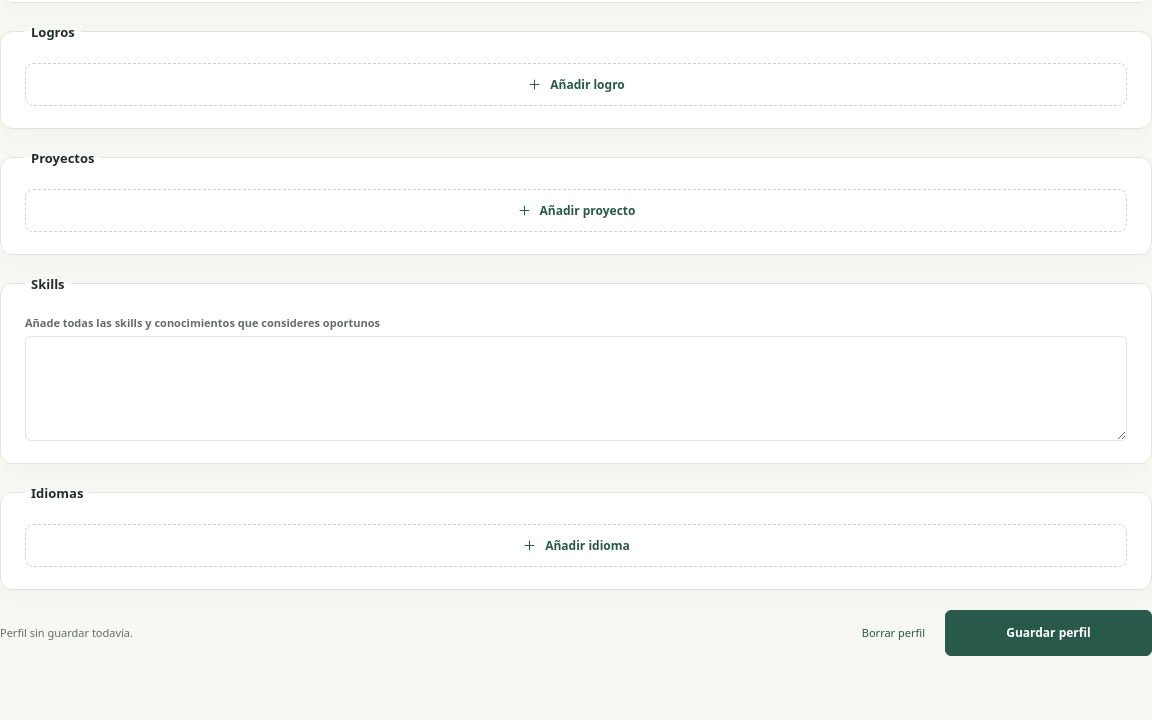
ProfileEditor › clears the profile after a two-step confirmation
(page scrolled)
Step 1. Click the button "Borrar perfil" → (893, 633), box [852,615,935,651]
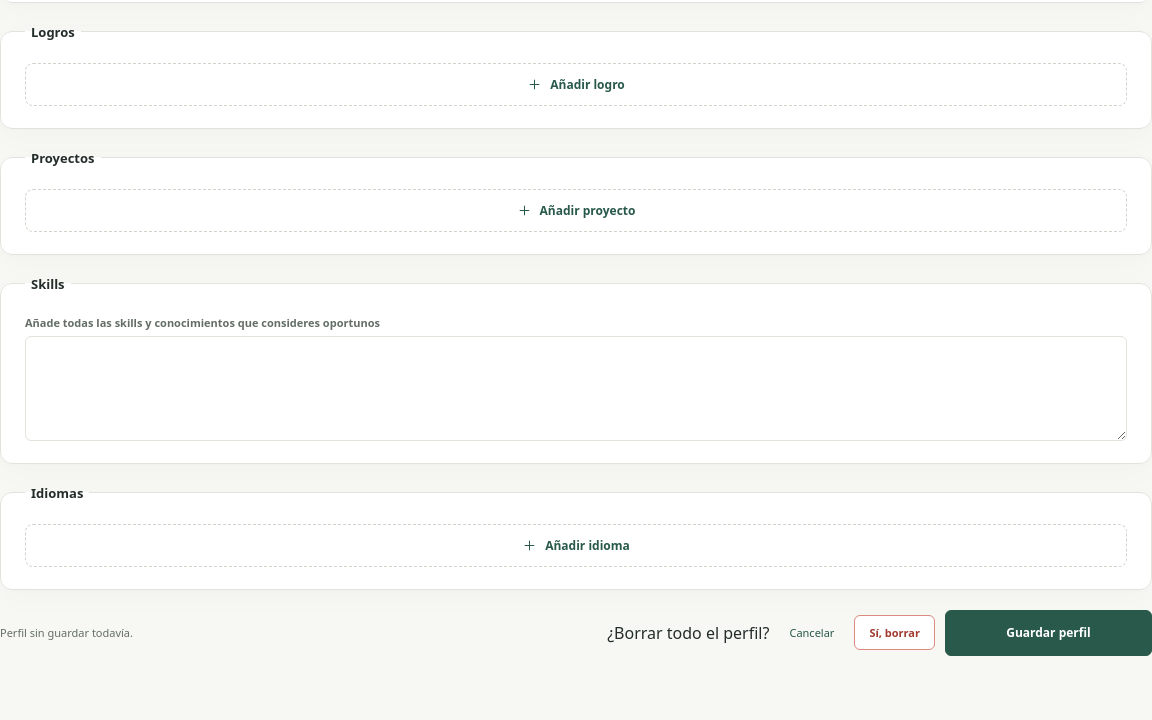
Step 2. Click the button "Sí, borrar" → (895, 633), box [854,615,935,650]
(page scrolled)
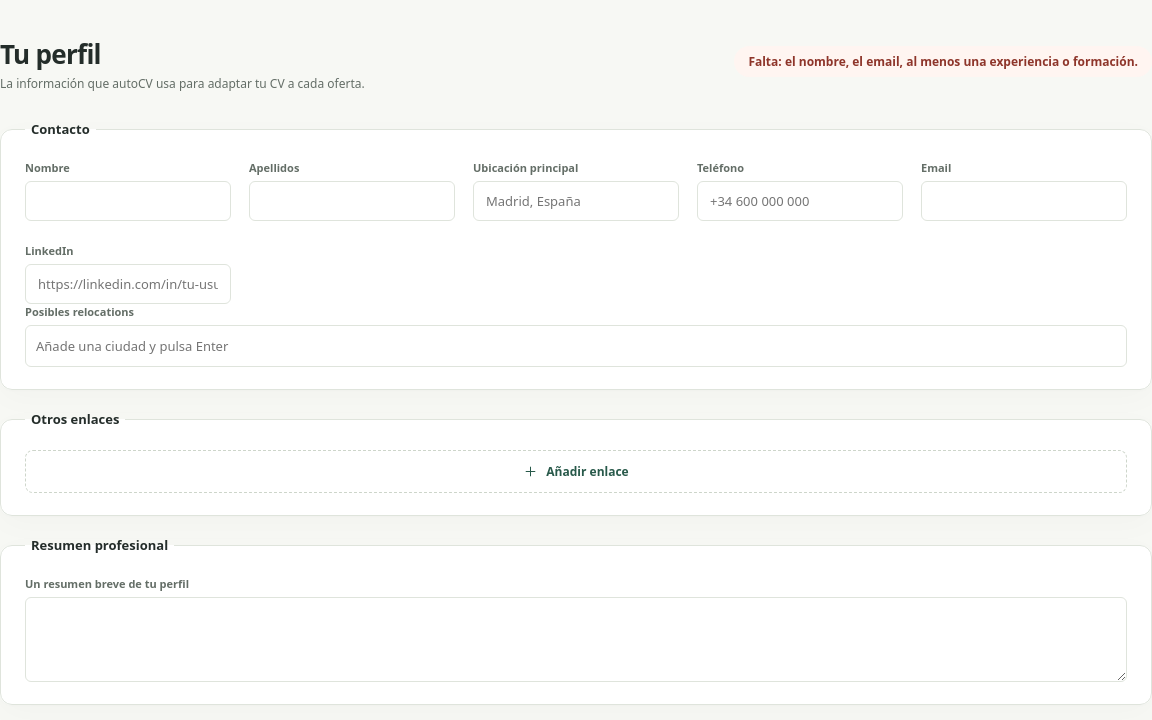
expect the field labelled "Nombre" is empty: met, box [25,181,231,221]
